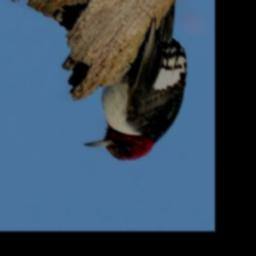Woodpecker: (83, 2, 188, 161)
